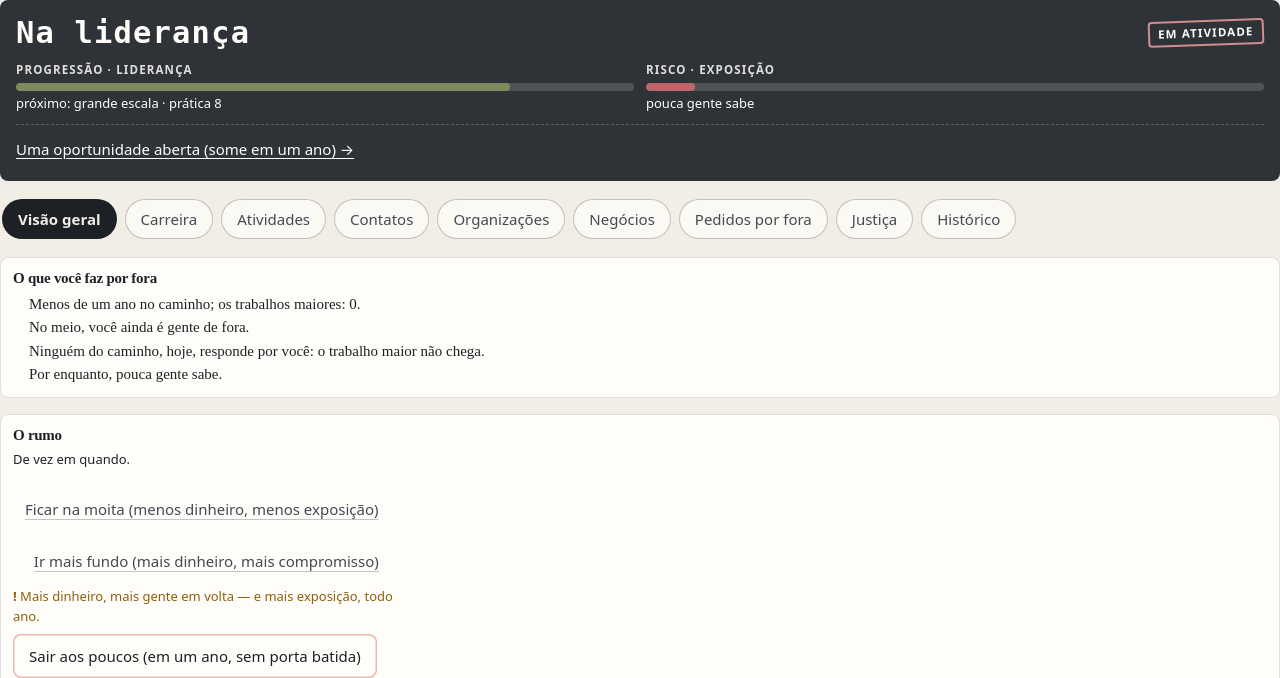
REWORK 12.35 · telas › atividades: a oportunidade mostra o que paga, a chance e o risco antes de aceitar
Click the tab "Atividades" at [274, 219], box [221,199,326,239]
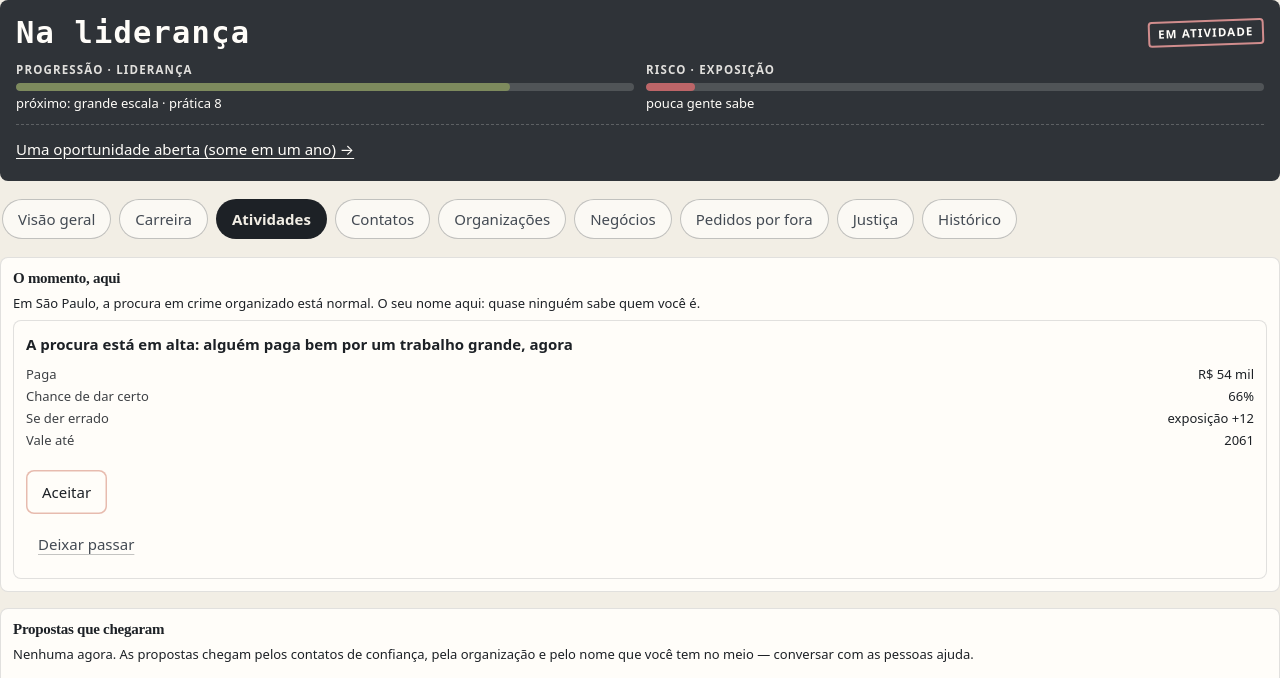
Now the text "A procura está em alta" is shown, box [26,334,573,354]
Now the button "Aceitar" is shown, box [26,470,107,514]
Now the button "Deixar passar" is shown, box [26,522,146,566]
